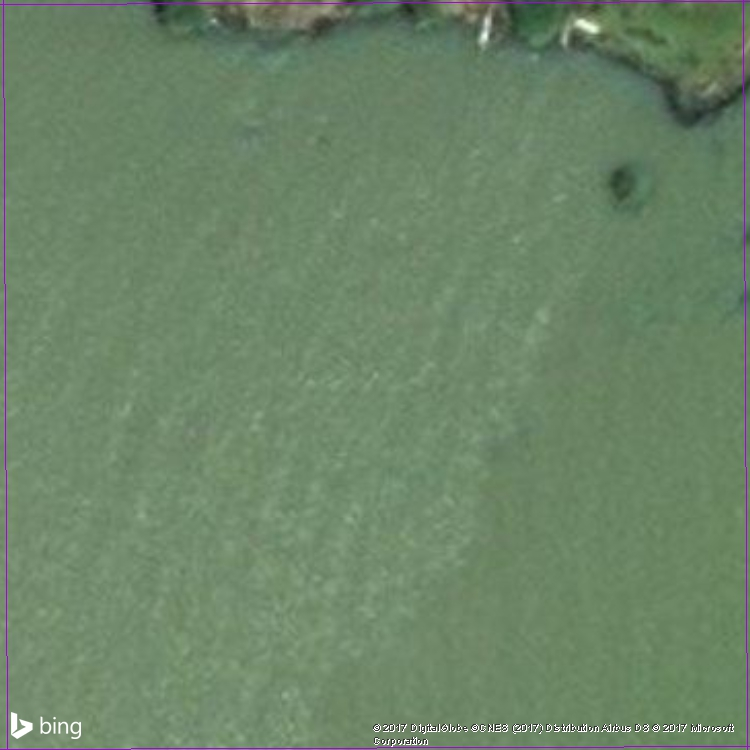boat: (474, 1, 497, 56)
